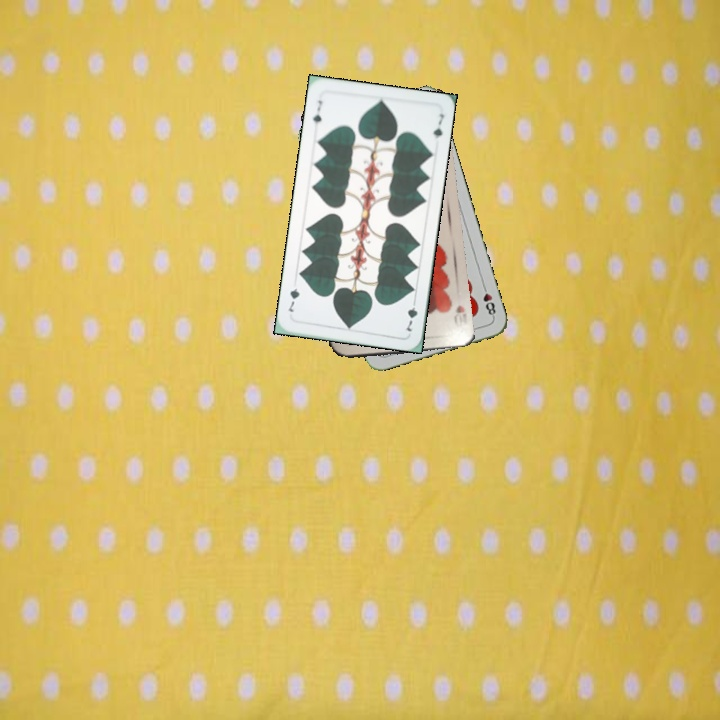G7: (401, 295, 420, 334), (309, 96, 324, 126)
H10: (450, 301, 469, 331)
H8: (478, 281, 498, 320)
